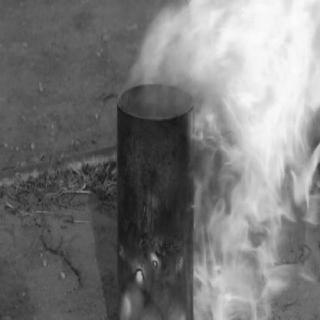Fire: (127, 1, 319, 318)
